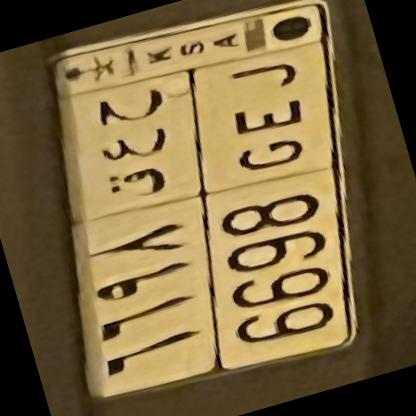english: (151, 18, 416, 373)
